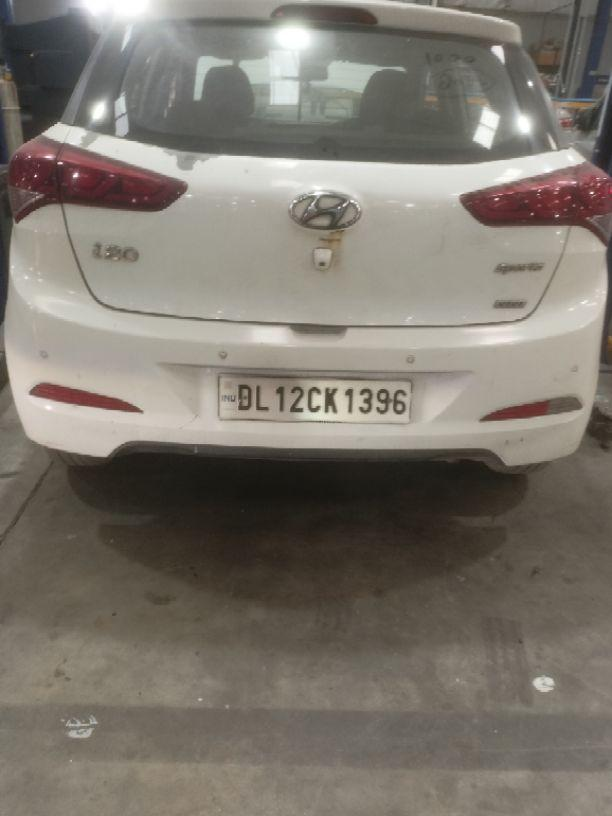license_plate: (216, 372, 413, 424)
